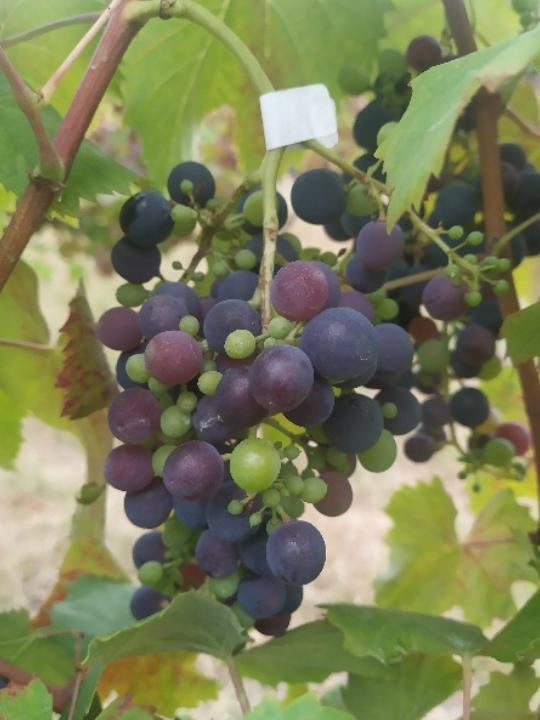grape: (89, 150, 423, 639)
